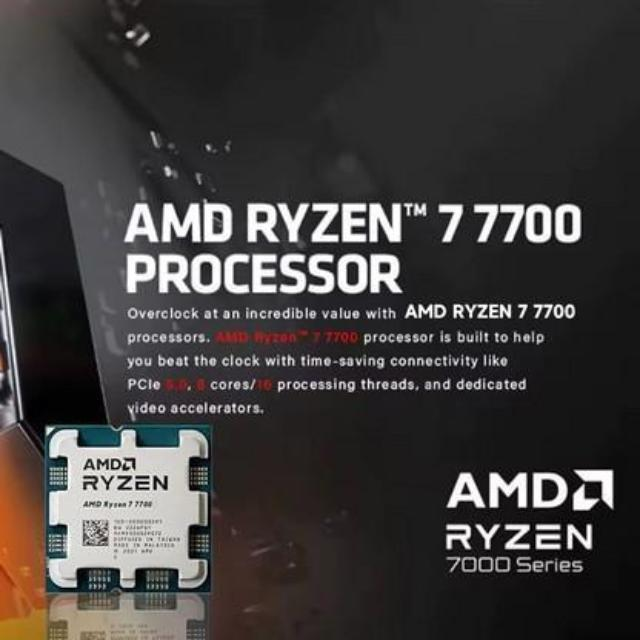CPU: (45, 424, 210, 592)
